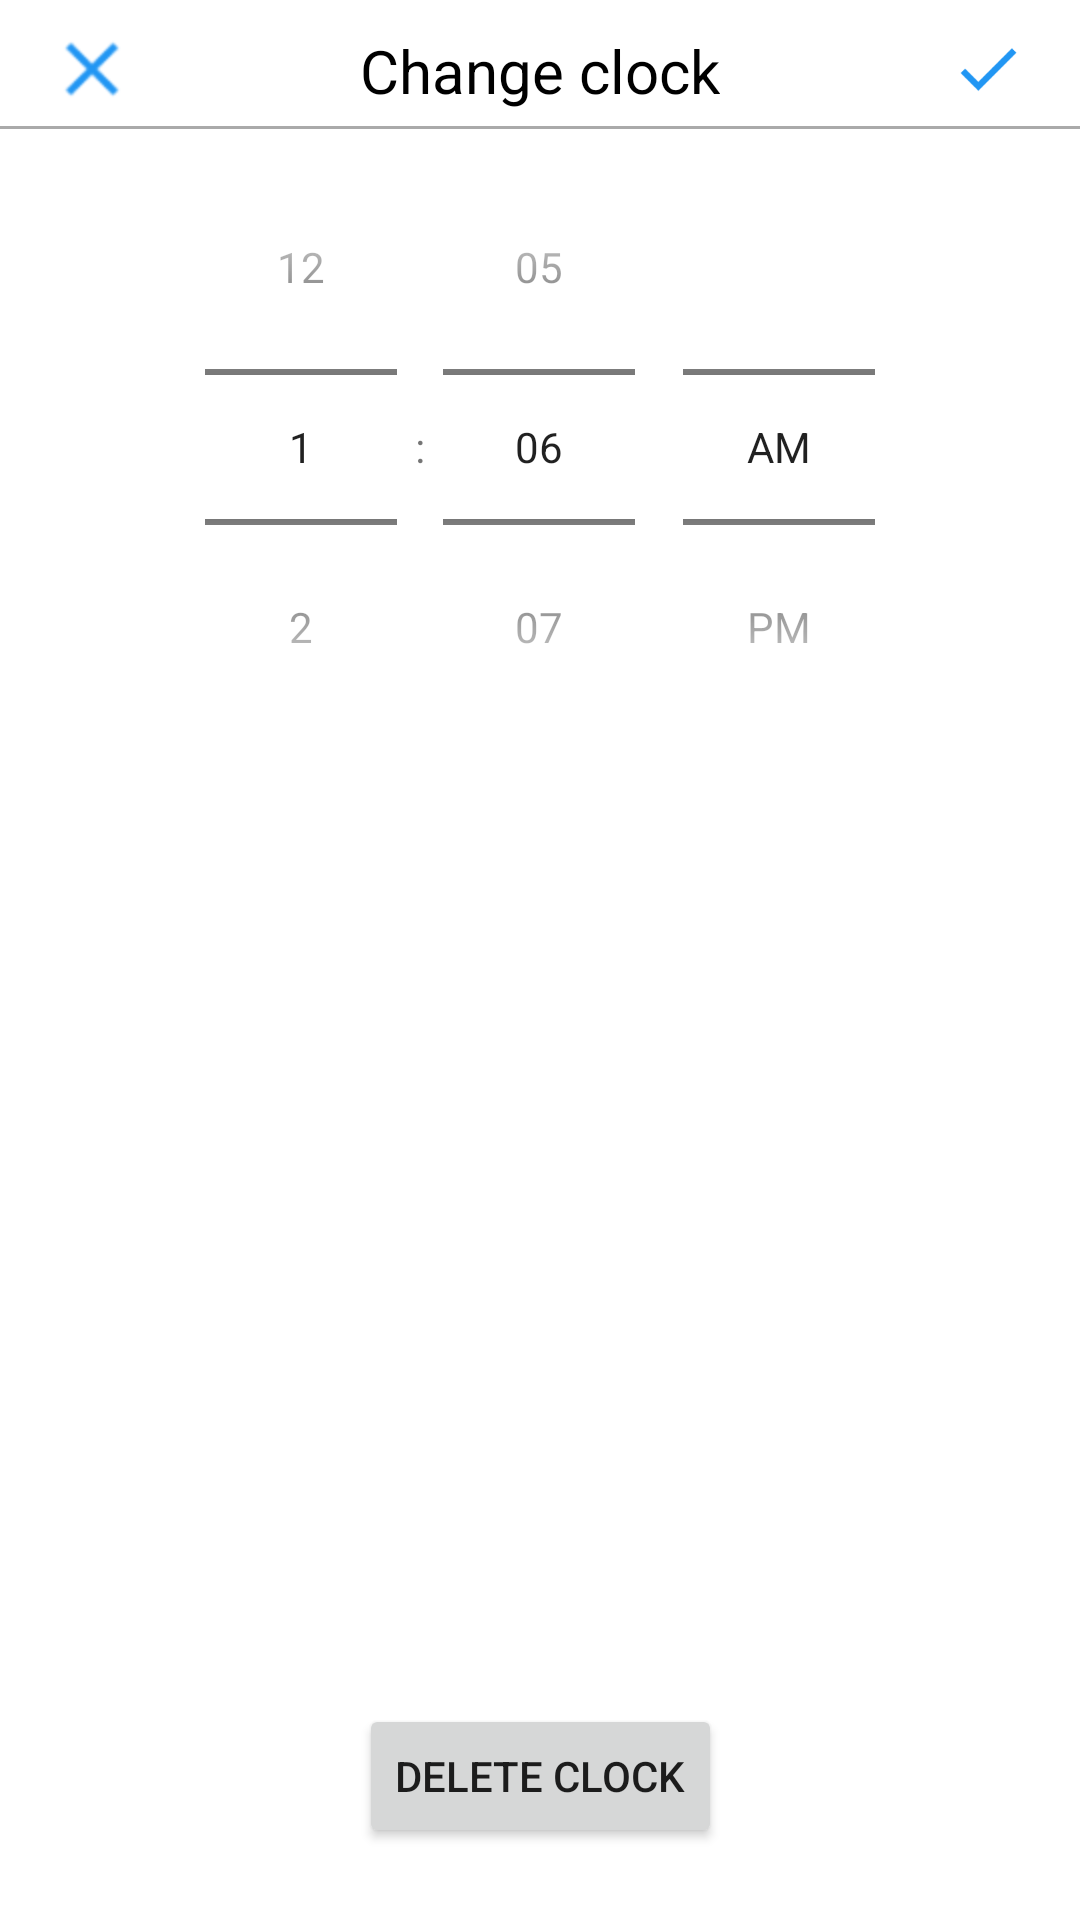

Icons on this 1080*1920 Android screen, each with the point to tap as point (x, y):
check: point (989, 69)
close: point (92, 69)
